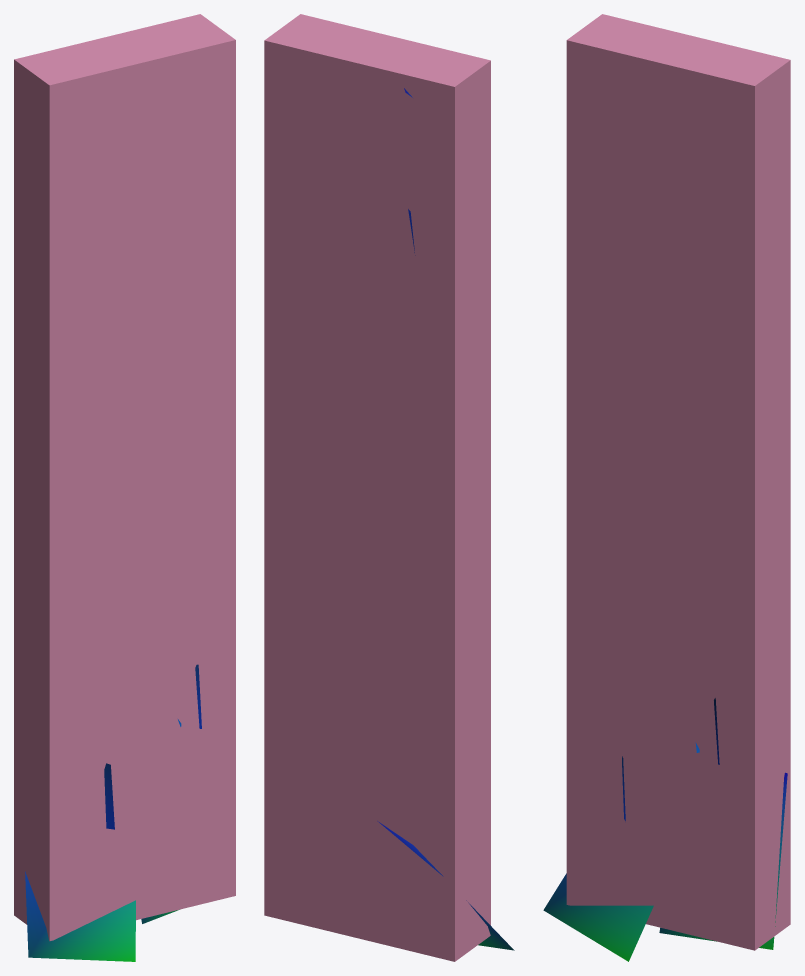
Rendered from vine_wall_wide_b.dae.
3 views of the same model, side by side, from view 1: azimuth 30°, elevation 25°; view 2: azimuth 150°, elevation 25°; view 3: azimuth 330°, elevation 25° (orthographic). The views are drawn at different scales.
Visible parts, largest first — view 1: Untitled, tree_oak_bush_a110, tree_oak_bush_a310; view 2: Untitled, tree_oak_bush_a110; view 3: Untitled, tree_oak_bush_a110.
Boxes of the visible parts, <box> form: Untitled: <box>14,14,235,941</box>; tree_oak_bush_a110: <box>25,871,179,961</box>; tree_oak_bush_a310: <box>104,664,201,829</box>; Untitled: <box>264,14,490,961</box>; tree_oak_bush_a110: <box>377,209,514,950</box>; Untitled: <box>566,14,790,950</box>; tree_oak_bush_a110: <box>543,772,787,961</box>.
Bounding box in the file's own units: 1.7 × 0.8994 × 6.83.
